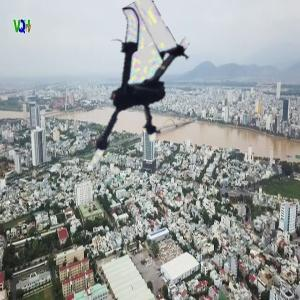drone: (53, 17, 209, 173)
